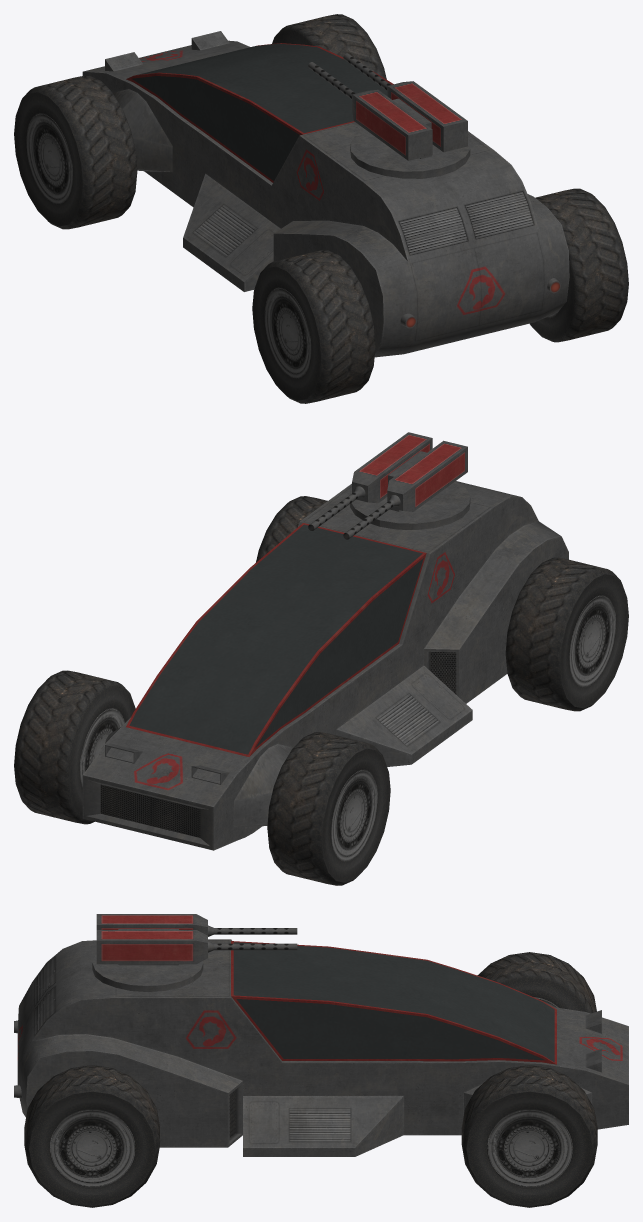
Rendered from nod_buggy01.glb.
3 views of the same model, one above another, from view 1: azimuth 30°, elevation 25°; view 2: azimuth 150°, elevation 25°; view 3: azimuth 270°, elevation 25° (orthographic). The views are drawn at different scales.
Parts seen in each view (by area): view 1: TS_Ve_Bug_Body_Bug_Body, TS_Ve_Bug_B_L_Tire_Bug_B_L_Tire, TS_Ve_Bug_F_L_Tire_Bug_F_L_Tire, TS_Ve_Bug_B_R_Tire_Bug_B_R_Tire, TS_Ve_Bug_Bar_Bug_Bar, TS_Ve_Bug_F_R_Tire_Bug_F_R_Tire, TS_Ve_Bug_Tur_Bug_Tur; view 2: TS_Ve_Bug_Body_Bug_Body, TS_Ve_Bug_B_L_Tire_Bug_B_L_Tire, TS_Ve_Bug_F_L_Tire_Bug_F_L_Tire, TS_Ve_Bug_F_R_Tire_Bug_F_R_Tire, TS_Ve_Bug_Bar_Bug_Bar, TS_Ve_Bug_Tur_Bug_Tur, TS_Ve_Bug_B_R_Tire_Bug_B_R_Tire; view 3: TS_Ve_Bug_Body_Bug_Body, TS_Ve_Bug_F_R_Tire_Bug_F_R_Tire, TS_Ve_Bug_B_R_Tire_Bug_B_R_Tire, TS_Ve_Bug_Bar_Bug_Bar, TS_Ve_Bug_F_L_Tire_Bug_F_L_Tire, TS_Ve_Bug_Tur_Bug_Tur.
Part boxes in pixels (x1,y1,x2,y2): TS_Ve_Bug_Body_Bug_Body: [82, 31, 569, 357]; TS_Ve_Bug_B_L_Tire_Bug_B_L_Tire: [252, 250, 375, 403]; TS_Ve_Bug_F_L_Tire_Bug_F_L_Tire: [14, 75, 137, 229]; TS_Ve_Bug_B_R_Tire_Bug_B_R_Tire: [530, 188, 628, 342]; TS_Ve_Bug_Bar_Bug_Bar: [308, 53, 467, 160]; TS_Ve_Bug_F_R_Tire_Bug_F_R_Tire: [272, 14, 386, 79]; TS_Ve_Bug_Tur_Bug_Tur: [350, 129, 470, 178]; TS_Ve_Bug_Body_Bug_Body: [82, 481, 568, 850]; TS_Ve_Bug_B_L_Tire_Bug_B_L_Tire: [505, 557, 628, 711]; TS_Ve_Bug_F_L_Tire_Bug_F_L_Tire: [267, 732, 390, 885]; TS_Ve_Bug_F_R_Tire_Bug_F_R_Tire: [14, 670, 135, 824]; TS_Ve_Bug_Bar_Bug_Bar: [308, 432, 467, 539]; TS_Ve_Bug_Tur_Bug_Tur: [350, 481, 470, 529]; TS_Ve_Bug_B_R_Tire_Bug_B_R_Tire: [256, 496, 327, 562]; TS_Ve_Bug_Body_Bug_Body: [14, 939, 628, 1156]; TS_Ve_Bug_F_R_Tire_Bug_F_R_Tire: [461, 1065, 597, 1207]; TS_Ve_Bug_B_R_Tire_Bug_B_R_Tire: [24, 1065, 159, 1207]; TS_Ve_Bug_Bar_Bug_Bar: [96, 914, 297, 965]; TS_Ve_Bug_F_L_Tire_Bug_F_L_Tire: [477, 952, 596, 1013]; TS_Ve_Bug_Tur_Bug_Tur: [92, 954, 203, 991].
Bounding box in the file's own units: 2.46 × 1.78 × 4.64.
Materials: 10 (10 with a texture image).
